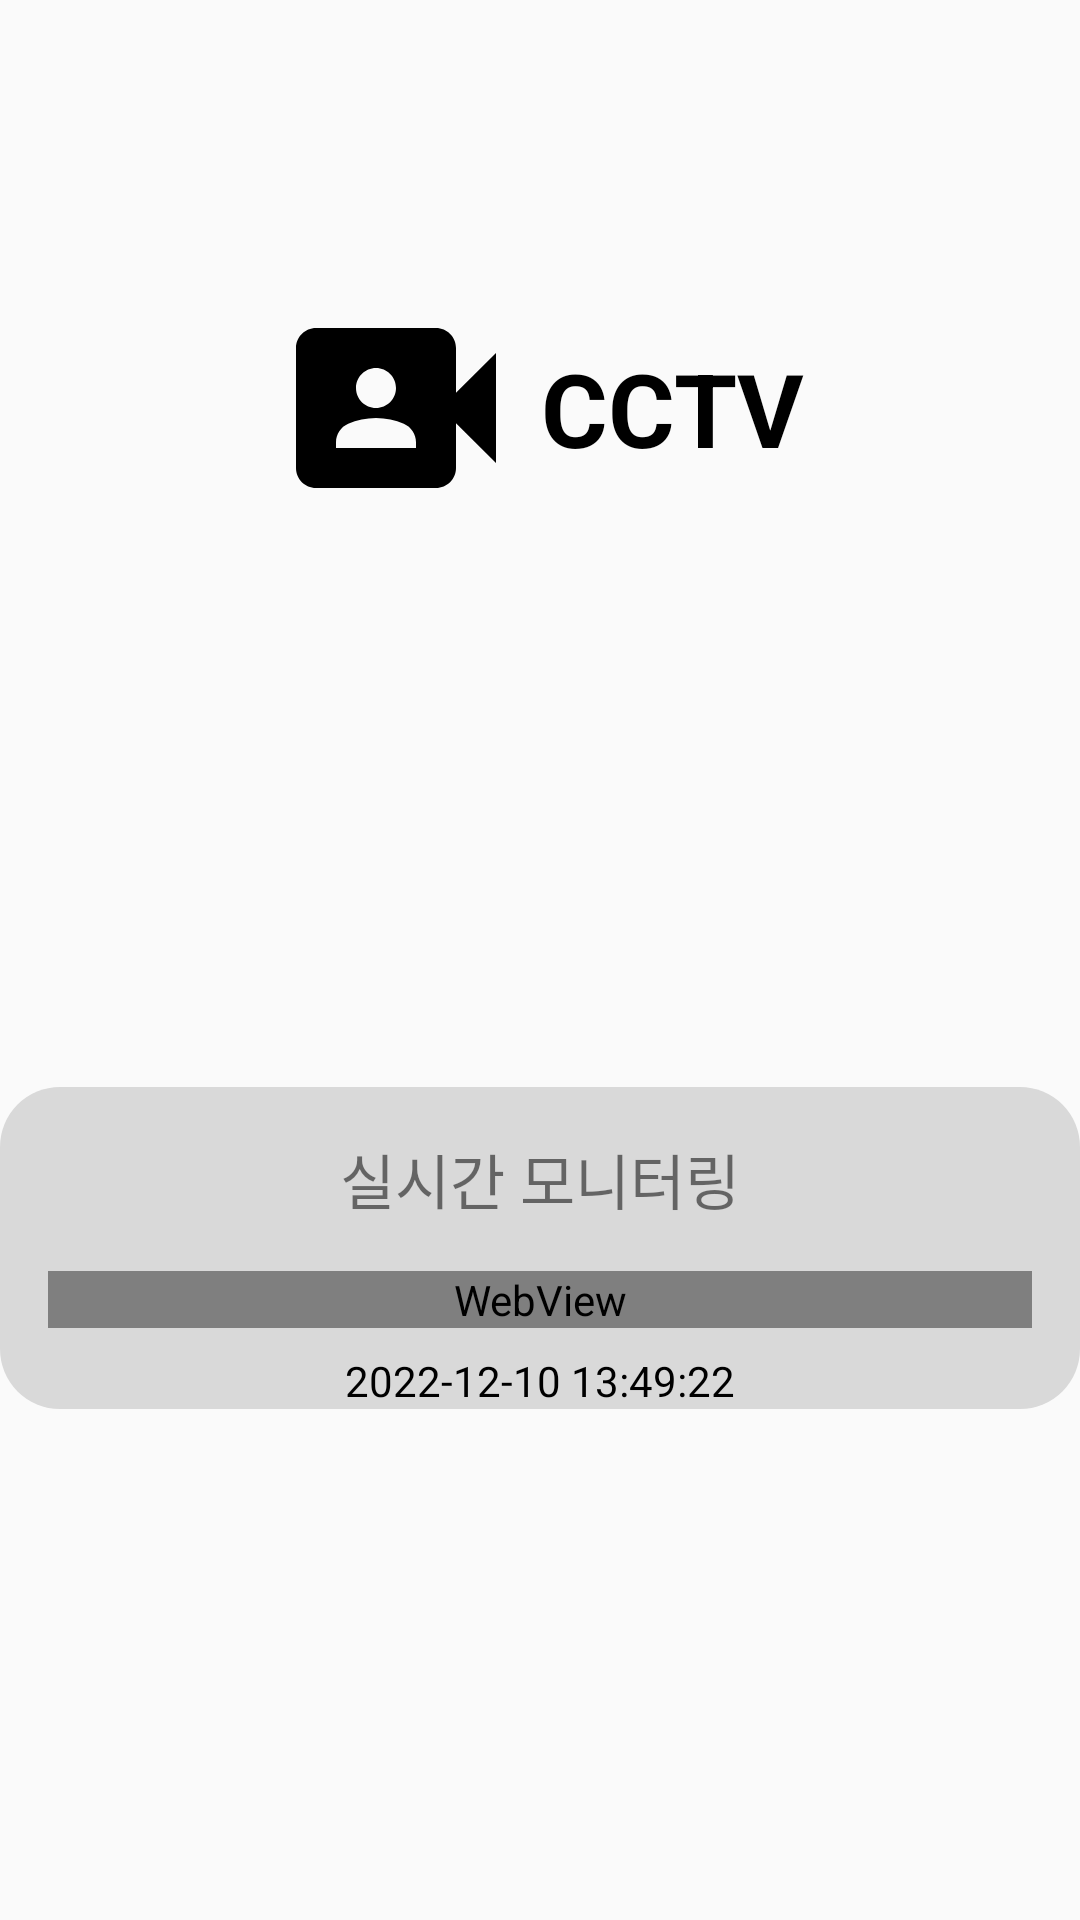

Locate icon controls on the screen. Image size 1080 x 1920, boxes as (x1, y1, x2, y2).
video camera front: (296, 328, 496, 488)
